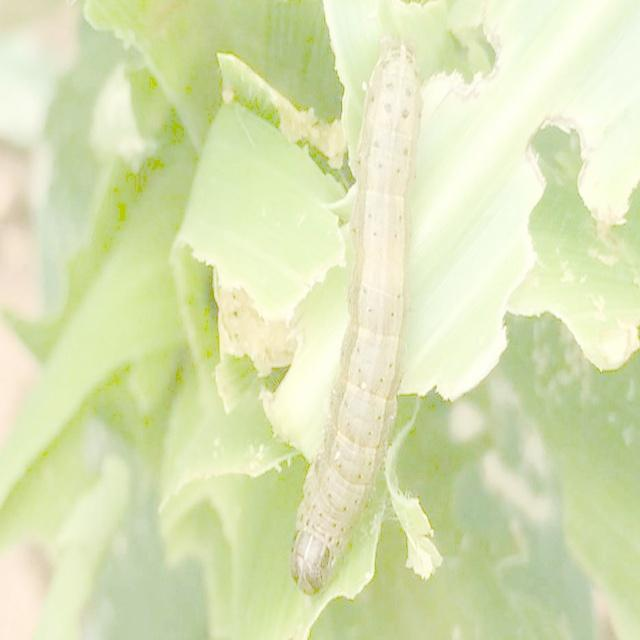worm: (289, 39, 425, 597)
